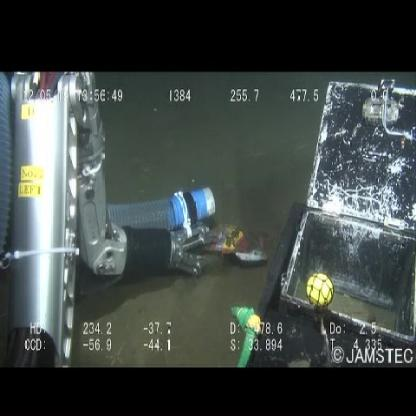Rov: (3, 73, 214, 360), (265, 73, 416, 372)
Rác: (205, 220, 274, 278)
